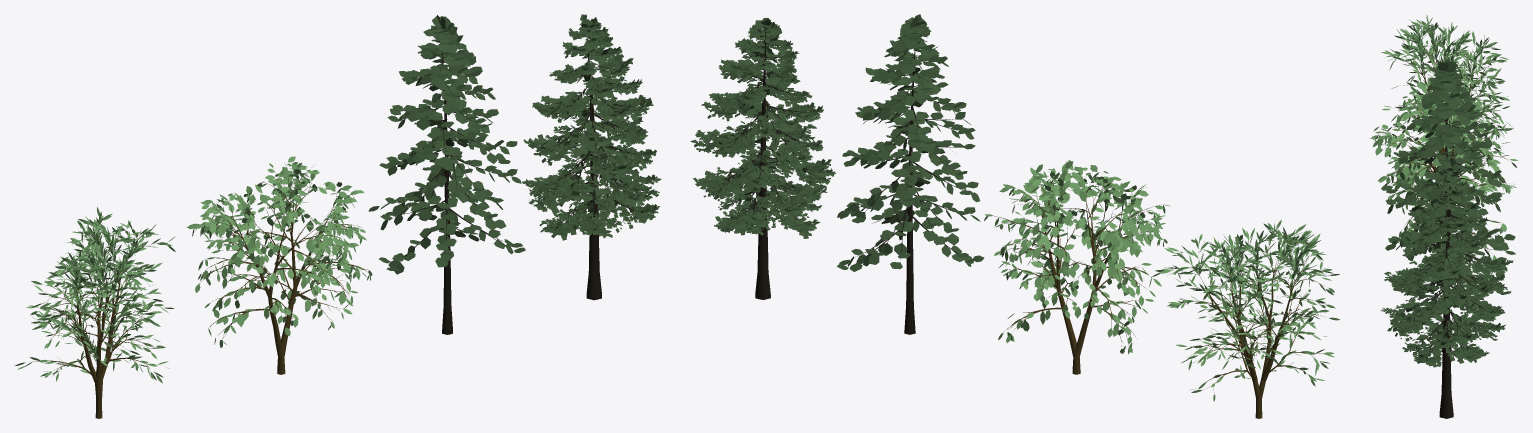
Rendered from trees1.fbx.
3 renders of one model, left to right at view 1: azimuth 30°, elevation 25°; view 2: azimuth 150°, elevation 25°; view 3: azimuth 270°, elevation 25°, orthographic. The views are drawn at different scales.
Visible parts, largest first — view 1: leaves, leaves.001, leaves.002, leaves.003, tree.002, tree.003, tree, tree.001; view 2: leaves, leaves.001, leaves.002, leaves.003, tree.003, tree.002, tree, tree.001; view 3: leaves, leaves.001, leaves.003, leaves.002, tree, tree.002, tree.003, tree.001.
Boxes of the visible parts, bbox=[...] form: leaves: bbox=[522, 14, 661, 240]; leaves.001: bbox=[368, 15, 525, 274]; leaves.002: bbox=[186, 156, 372, 347]; leaves.003: bbox=[15, 207, 175, 383]; tree.002: bbox=[196, 165, 367, 374]; tree.003: bbox=[29, 233, 159, 418]; tree: bbox=[533, 37, 650, 300]; tree.001: bbox=[386, 48, 508, 334]; leaves: bbox=[690, 18, 835, 238]; leaves.001: bbox=[837, 14, 984, 271]; leaves.002: bbox=[984, 160, 1170, 354]; leaves.003: bbox=[1152, 219, 1340, 401]; tree.003: bbox=[1181, 232, 1326, 418]; tree.002: bbox=[993, 171, 1159, 374]; tree: bbox=[704, 27, 823, 299]; tree.001: bbox=[854, 48, 963, 334]; leaves: bbox=[1381, 158, 1513, 367]; leaves.001: bbox=[1381, 60, 1515, 303]; leaves.003: bbox=[1381, 15, 1517, 188]; leaves.002: bbox=[1369, 82, 1516, 269]; tree: bbox=[1391, 181, 1498, 418]; tree.002: bbox=[1384, 91, 1506, 255]; tree.003: bbox=[1398, 33, 1508, 168]; tree.001: bbox=[1396, 98, 1499, 352].
Size of the model in its own units: 11050 by 5295 by 2508.
4 materials, 1 textured.
